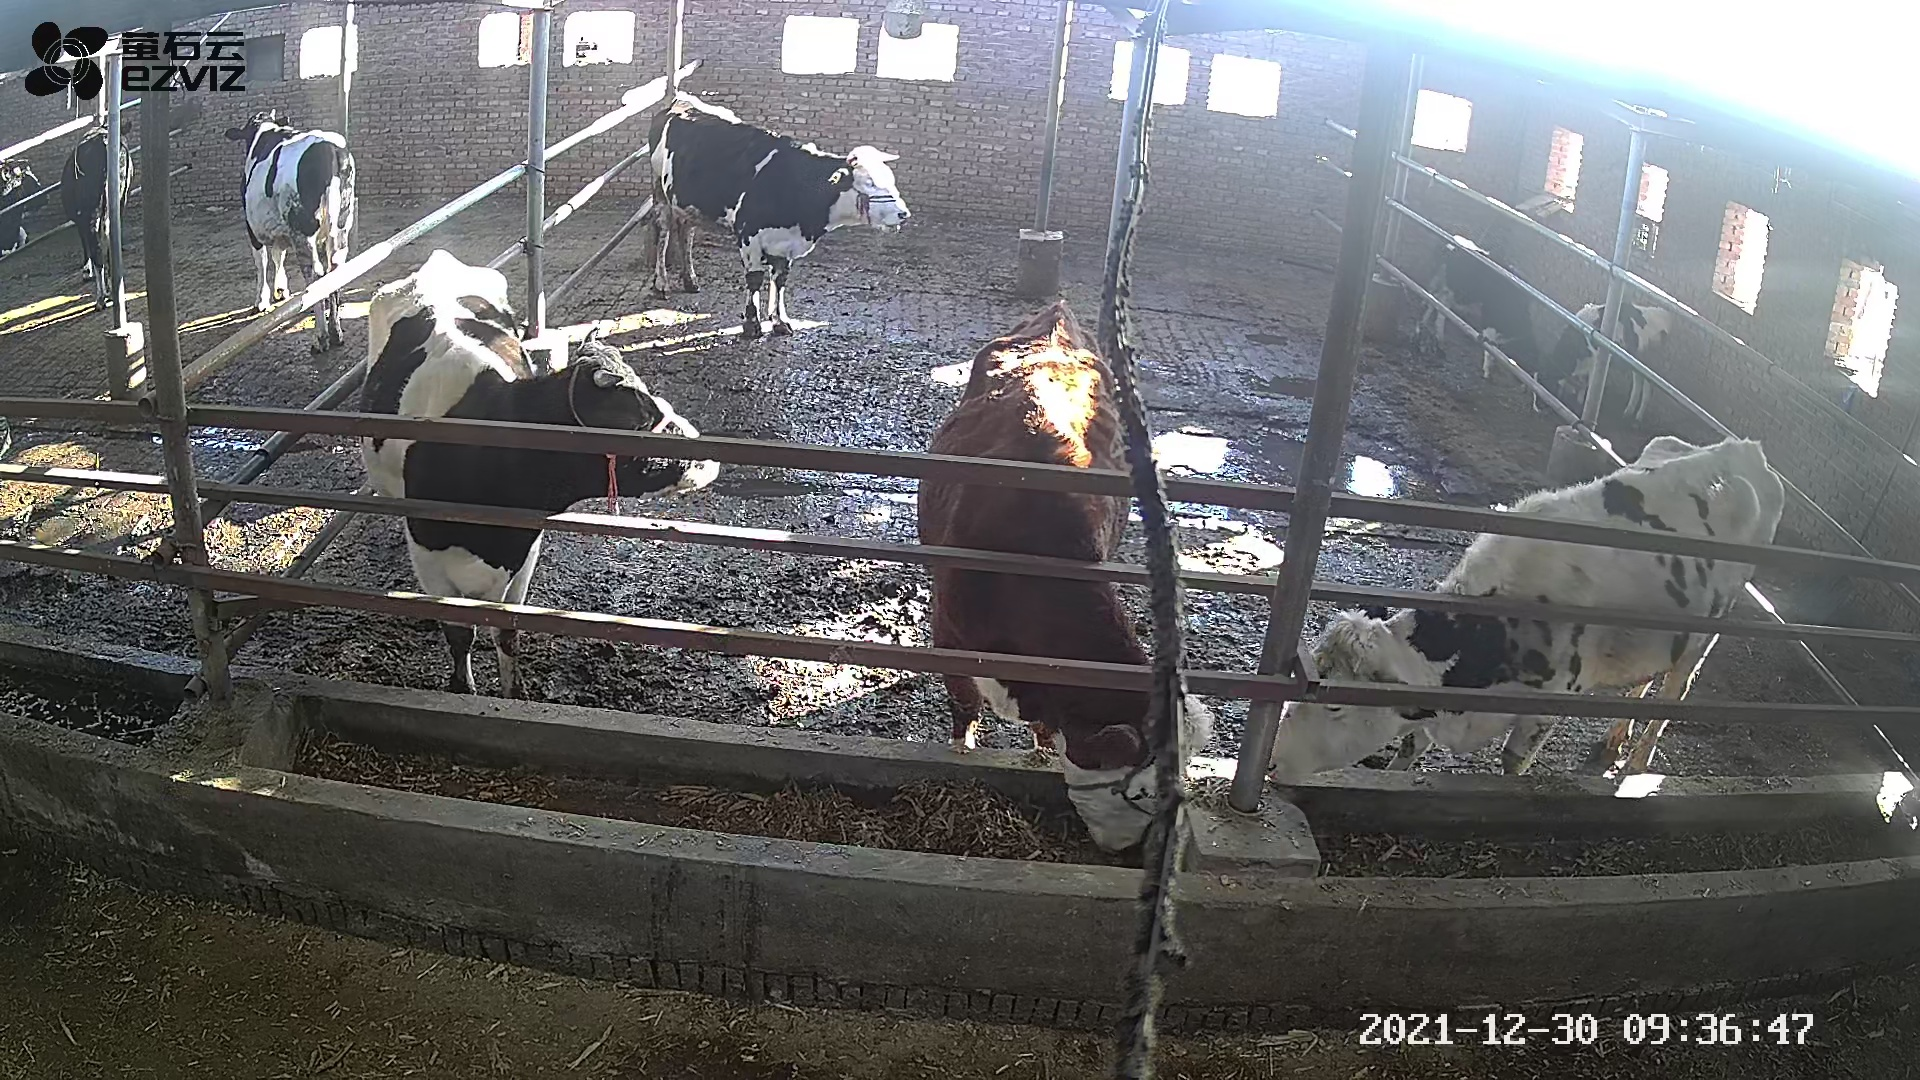cow: (1261, 433, 1778, 789), (914, 298, 1218, 853), (357, 247, 727, 702), (645, 90, 913, 342)
